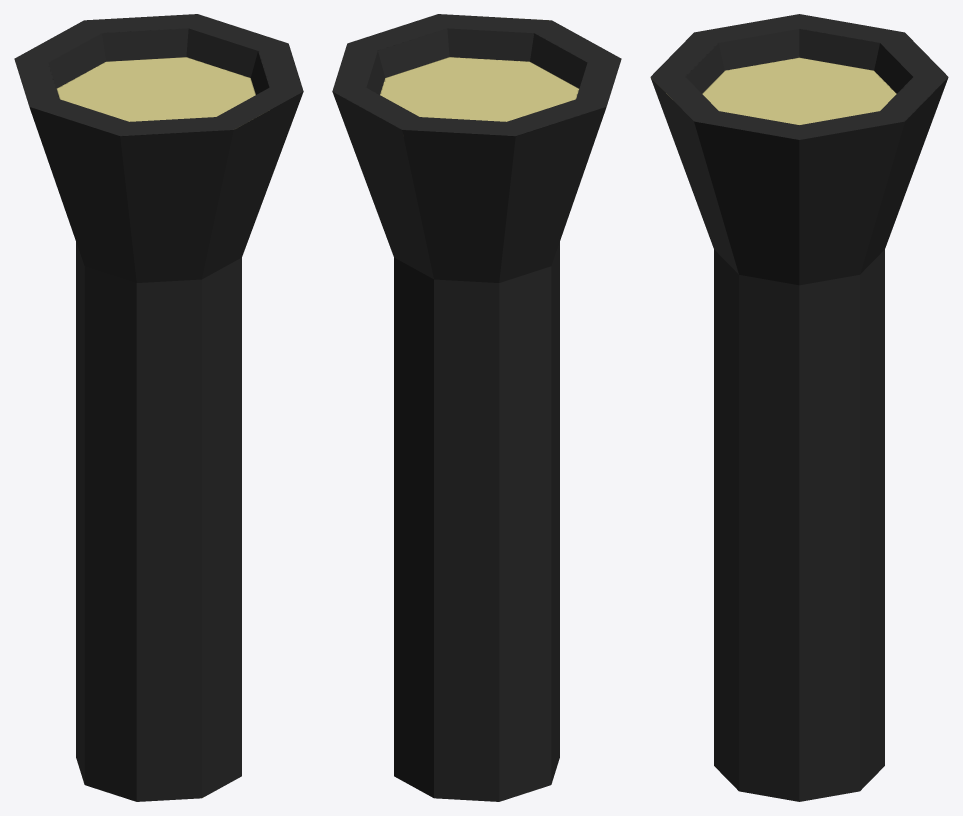
The model's file is flashlight.glb.
3 renders of one model, left to right at view 1: azimuth 30°, elevation 25°; view 2: azimuth 150°, elevation 25°; view 3: azimuth 270°, elevation 25°, orthographic.
Parts seen in each view (by area): view 1: Cylinder; view 2: Cylinder; view 3: Cylinder.
Part boxes in pixels (x1=…): Cylinder: x1=14, y1=14, x2=303, y2=801; Cylinder: x1=332, y1=14, x2=621, y2=801; Cylinder: x1=650, y1=14, x2=948, y2=801.
Bounding box in the file's own units: 0.157 × 0.4 × 0.157.
2 materials, 2 textured.
